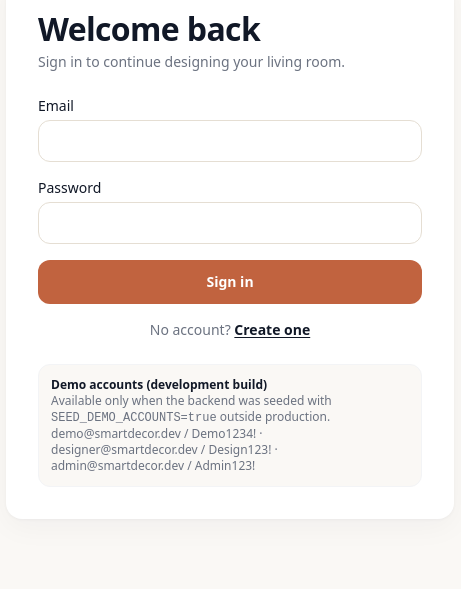
Test case: login failure path › renders an HTML-looking server message as escaped text, never live HTML
Type "x@y.com" into the field labelled "Email" at (230, 141), box [38, 120, 422, 162]
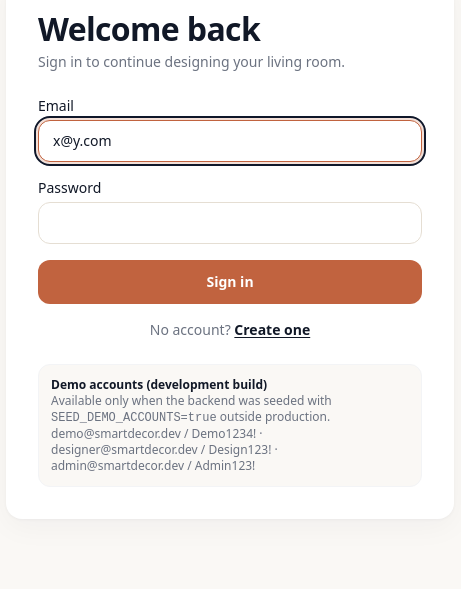
Type "WrongPass1!" into the password field labelled "Password" at (230, 223), box [38, 202, 422, 244]
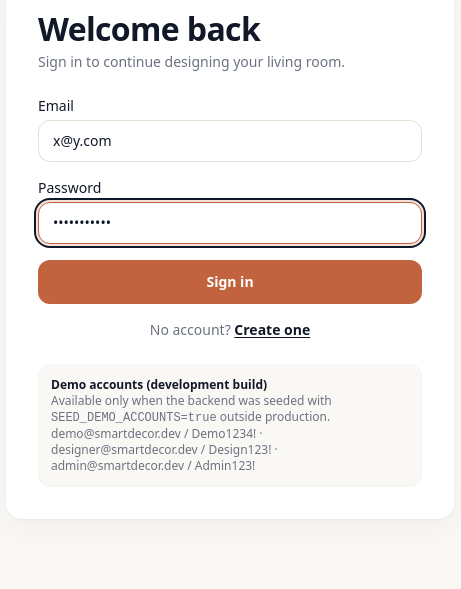
Click the button "Sign in" at (230, 282), box [38, 260, 422, 304]
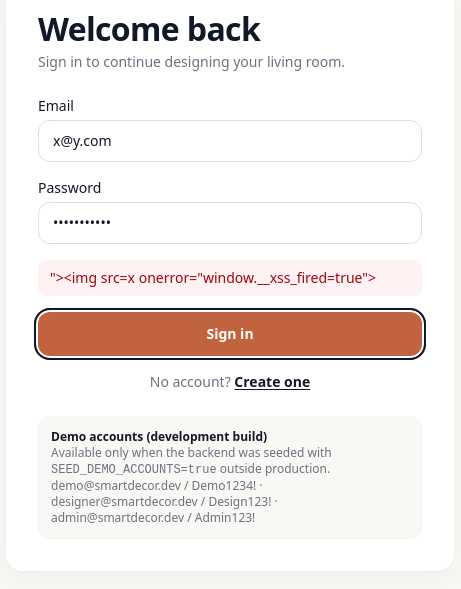
Result: the text "\"><img src=x onerror=\"window.__xss_fired=true\">" is shown at [38, 260, 422, 296]
